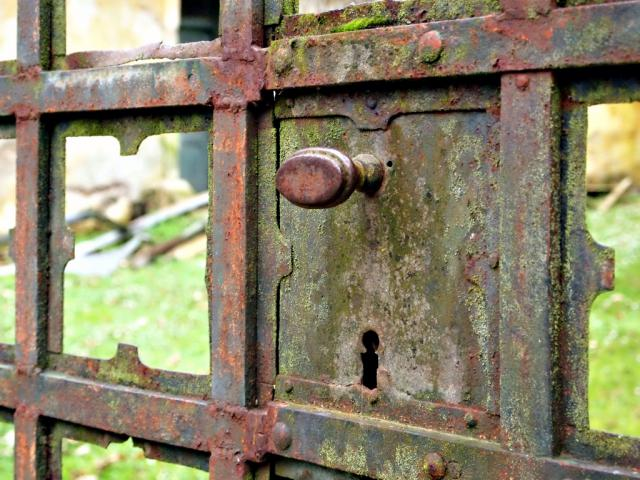Door-handle: (269, 142, 386, 213)
